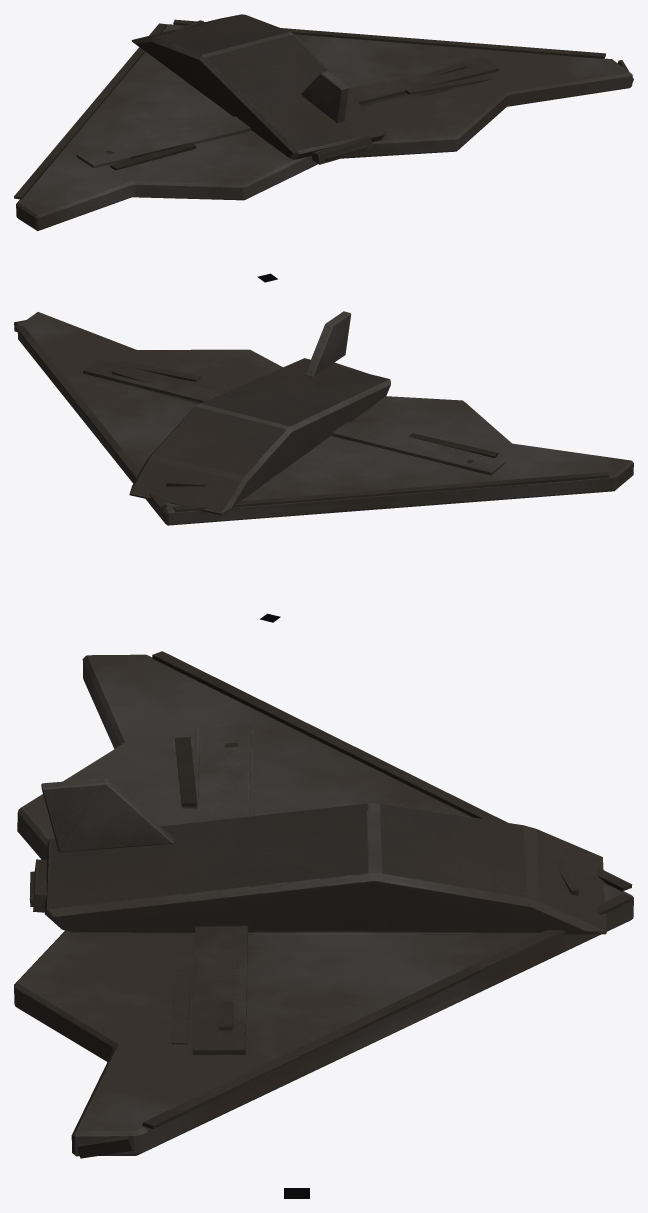
The model's file is chs_wraith_wreck.fbx.
The picture shows the model from 3 angles, top to bottom: view 1: azimuth 30°, elevation 25°; view 2: azimuth 150°, elevation 25°; view 3: azimuth 270°, elevation 25°; orthographic projection. The views are drawn at different scales.
Parts seen in each view (by area): view 1: base_bar; view 2: base_bar; view 3: base_bar.
Boxes of the visible parts, <box> form: base_bar: <box>14,14,633,230</box>; base_bar: <box>14,311,633,525</box>; base_bar: <box>14,651,633,1158</box>.
Size of the model in its own units: 886 by 350 by 477.
Materials: 2 (2 with a texture image).
